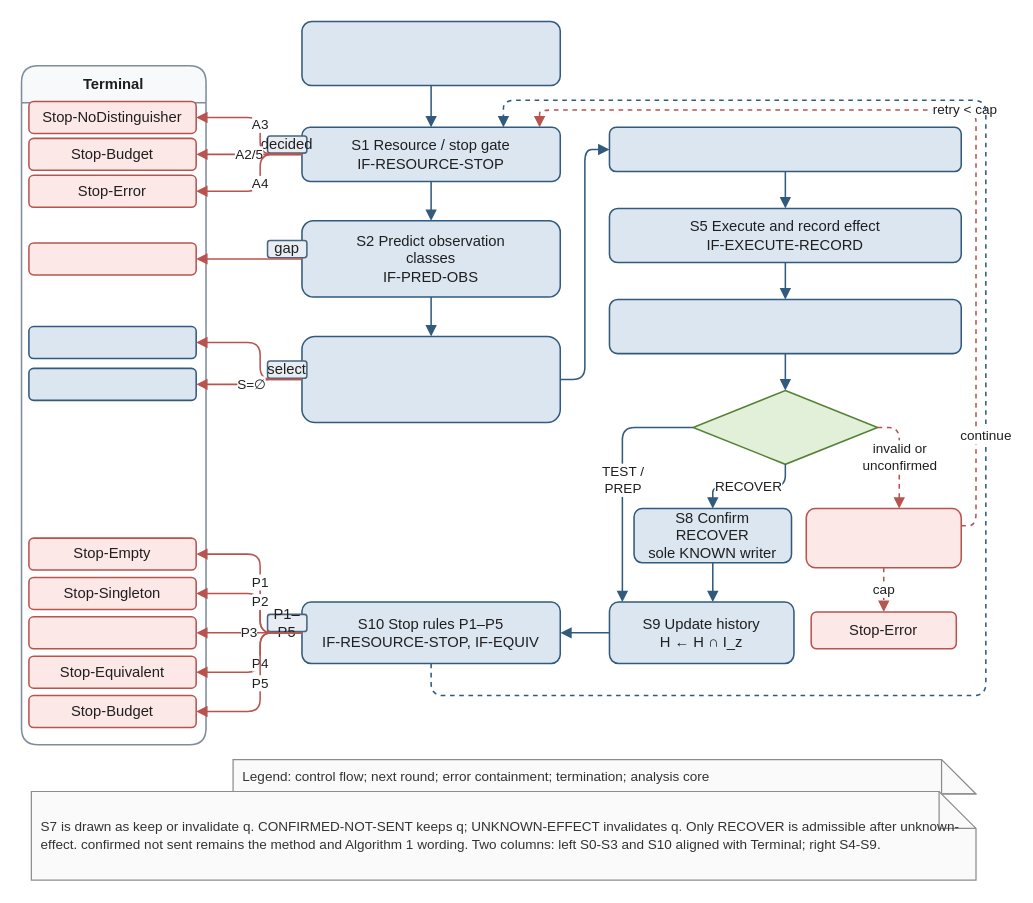
The diagram is 1033 pixels wide and 903 high, and some of its shapes have lost their labels. The box of each missing label's shape, as (x1, y1, x2, y2) in pixels:
ADMIT: (28, 325, 196, 359)
record valid?: (692, 389, 878, 465)
S0 Initialise session H_0, resource mode, retry counter: (301, 20, 561, 86)
S3 Select and admit one action IF-SELECT-ADMIT: TEST | PREP | RECOVER: (301, 335, 561, 423)
S4 Charge declared cost once: (608, 126, 961, 172)
S6 Interpret observation IF-OBS-INTERPRET: (608, 298, 961, 354)
S7 Contain effect keep or invalidate q: (805, 507, 961, 568)
Spec. error: (28, 367, 196, 401)
Stop-645: (28, 615, 196, 649)
Stop-Prediction-Gap: (28, 242, 196, 275)
